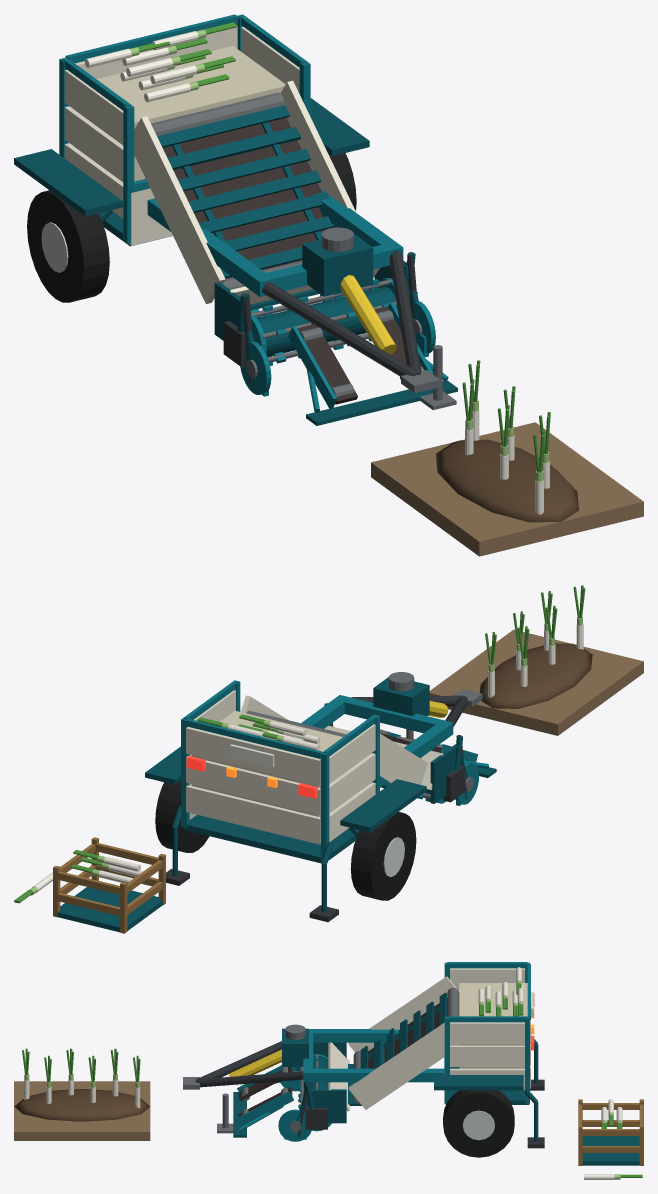
File: negi_harvester.glb
3 renders of one model, top to bottom at view 1: azimuth 30°, elevation 25°; view 2: azimuth 150°, elevation 25°; view 3: azimuth 270°, elevation 25°, orthographic. The views are drawn at different scales.
Parts seen in each view (by area): view 1: NegiBody, NegiProps, NegiPickup; view 2: NegiBody, NegiProps; view 3: NegiBody, NegiProps, NegiPickup.
Part boxes in pixels (left/top/right/bottom): NegiBody: left=14, top=14, right=457, bottom=425; NegiProps: left=371, top=360, right=643, bottom=556; NegiPickup: left=250, top=278, right=397, bottom=365; NegiBody: left=145, top=672, right=496, bottom=922; NegiProps: left=14, top=585, right=643, bottom=933; NegiBody: left=183, top=962, right=544, bottom=1157; NegiProps: left=14, top=1048, right=643, bottom=1179; NegiPickup: left=298, top=1054, right=331, bottom=1131.
Size of the model in its own units: 3.02 by 1.63 by 7.38.
